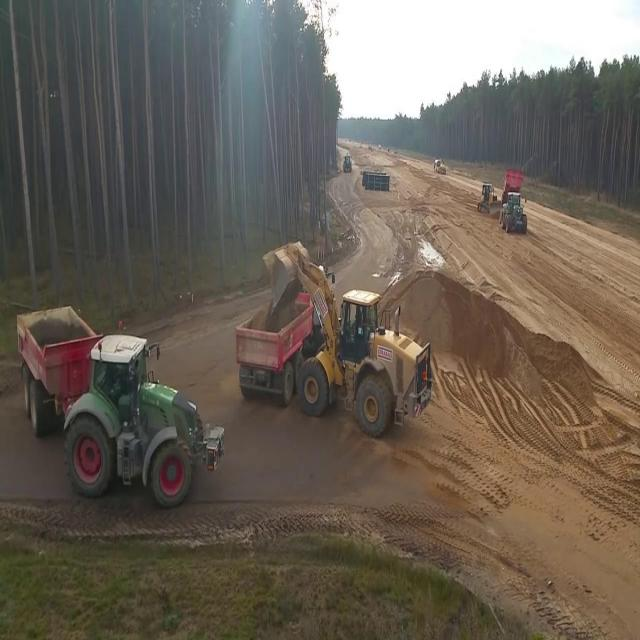Dump Truck: (14, 301, 224, 507), (234, 283, 320, 409)
Loader: (259, 240, 433, 438)
